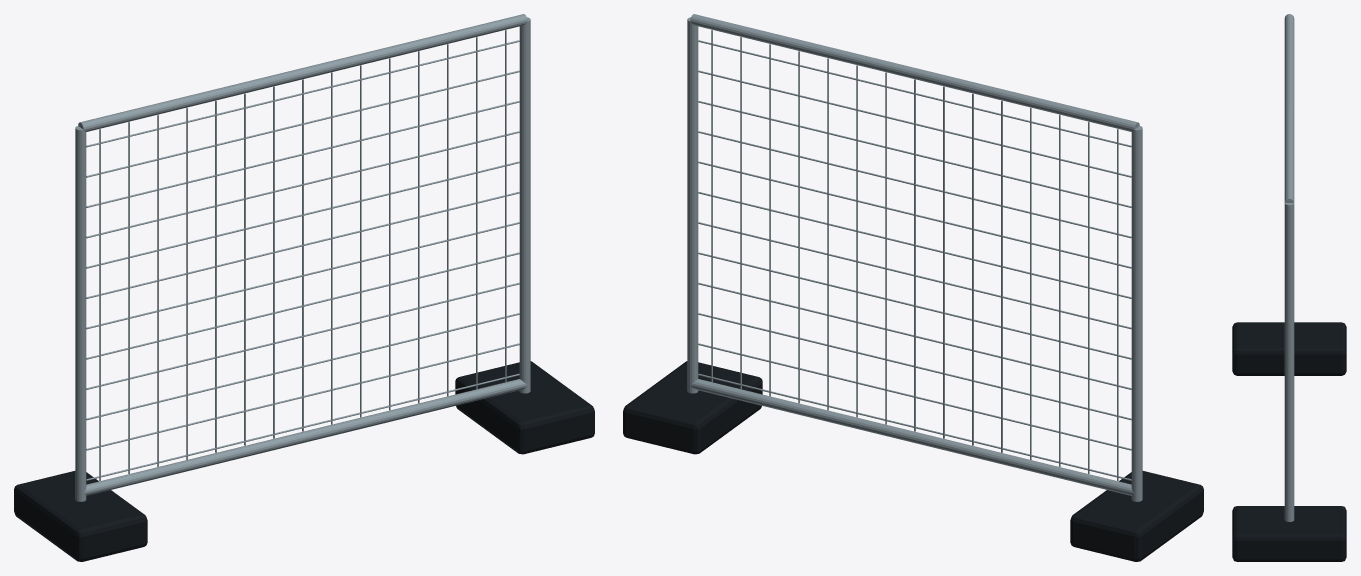
Rendered from edited.glb.
3 views of the same model, side by side, from view 1: azimuth 30°, elevation 25°; view 2: azimuth 150°, elevation 25°; view 3: azimuth 270°, elevation 25° (orthographic). The views are drawn at different scales.
Parts seen in each view (by area): view 1: FOOT, FOOT.001, FRAME_Horizontal.001, FRAME_Horizontal, FRAME_Post, FRAME_Post.001, MESH_Horizontal.005, MESH_Horizontal.008, MESH_Horizontal.011, MESH_Horizontal.002, MESH_Horizontal.003, MESH_Horizontal.004 (+6 smaller); view 2: FOOT, FOOT.001, FRAME_Horizontal.001, FRAME_Horizontal, FRAME_Post, FRAME_Post.001, MESH_Horizontal.005, MESH_Horizontal.008, MESH_Horizontal.011, MESH_Horizontal.002, MESH_Horizontal.003, MESH_Horizontal.004 (+6 smaller); view 3: FOOT.001, FOOT, FRAME_Post.001, FRAME_Horizontal.001.
Boxes of the visible parts, x1,y1,x2,y2 form: FOOT: (14,471,147,561); FOOT.001: (455,361,594,454); FRAME_Horizontal.001: (78,14,527,131); FRAME_Horizontal: (83,379,527,495); FRAME_Post: (75,126,86,501); FRAME_Post.001: (519,17,530,393); MESH_Horizontal.005: (86,222,519,329); MESH_Horizontal.008: (86,131,519,238); MESH_Horizontal.011: (86,40,519,147); MESH_Horizontal.002: (86,313,519,420); MESH_Horizontal.003: (86,283,519,389); MESH_Horizontal.004: (86,252,519,359); FOOT: (1070,471,1203,561); FOOT.001: (623,361,762,454); FRAME_Horizontal.001: (690,14,1139,131); FRAME_Horizontal: (690,379,1134,495); FRAME_Post: (1131,126,1142,501); FRAME_Post.001: (687,17,698,393); MESH_Horizontal.005: (698,222,1131,329); MESH_Horizontal.008: (698,131,1131,238); MESH_Horizontal.011: (698,40,1131,147); MESH_Horizontal.002: (698,313,1131,420); MESH_Horizontal.003: (698,283,1131,389); MESH_Horizontal.004: (698,252,1131,359); FOOT.001: (1232,506,1346,561); FOOT: (1232,322,1346,375); FRAME_Post.001: (1284,203,1294,521); FRAME_Horizontal.001: (1284,14,1294,202).
Bounding box in the file's own units: 2.68 × 2.03 × 0.6.
